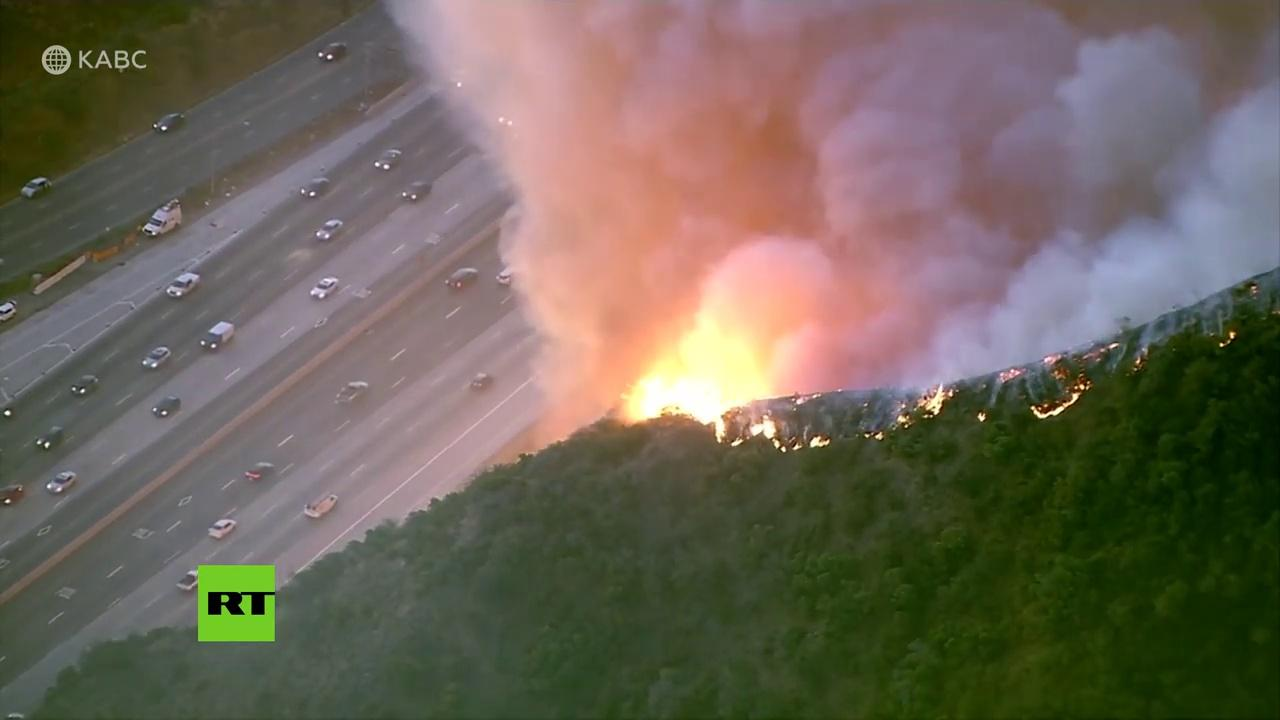Fire: (604, 327, 758, 440), (746, 420, 833, 452), (1027, 390, 1084, 419), (919, 384, 951, 417)
